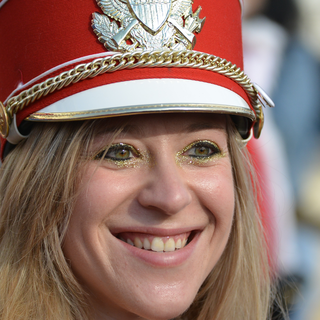eye: (85, 139, 147, 167), (171, 138, 227, 167)
